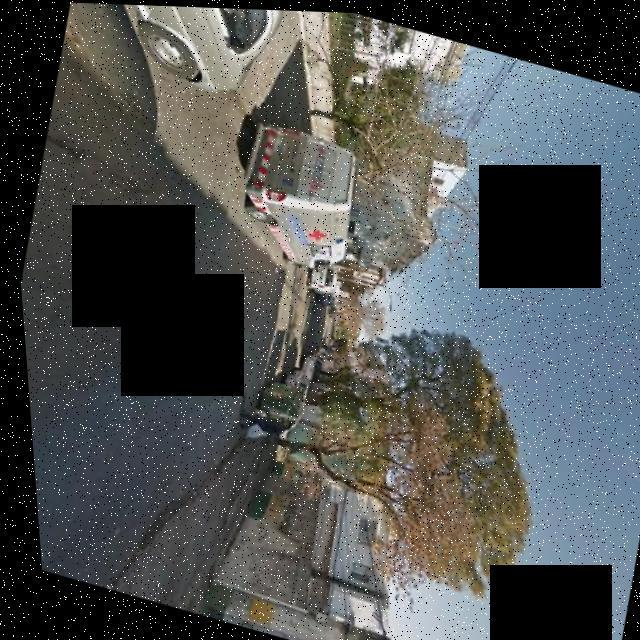bin: (225, 364, 310, 444)
